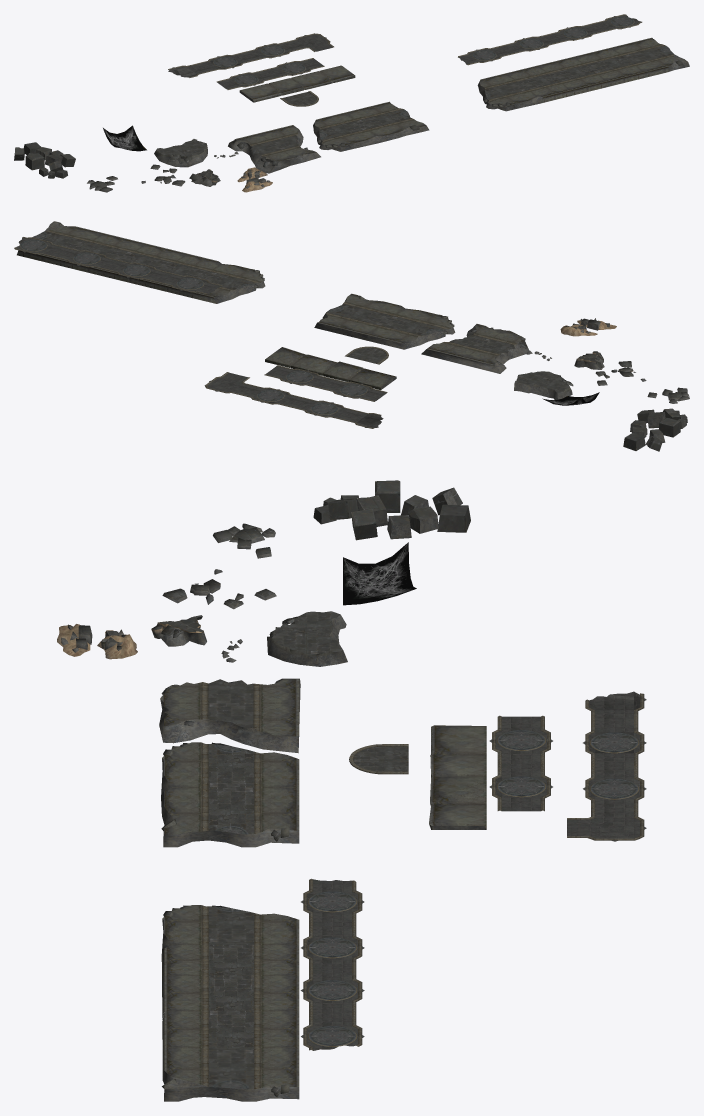
The model's file is f_103_floor_a.FBX.
3 renders of one model, top to bottom at view 1: azimuth 30°, elevation 25°; view 2: azimuth 150°, elevation 25°; view 3: azimuth 270°, elevation 25°, orthographic. The views are drawn at different scales.
Visible parts, largest first — view 1: f_103_floor_a12, f_103_floor_a05, f_103_floor_a06, f_103_floor_a17, f_103_floor_a00, f_103_floor_a01, f_103_floor_a14, f_103_floor_a03, f_103_floor_a07, f_103_floor_a15, f_103_floor_a16, f_103_floor_a04 (+3 smaller); view 2: f_103_floor_a12, f_103_floor_a05, f_103_floor_a17, f_103_floor_a06, f_103_floor_a00, f_103_floor_a01, f_103_floor_a14, f_103_floor_a03, f_103_floor_a07, f_103_floor_a16, f_103_floor_a04, f_103_floor_a10 (+2 smaller); view 3: f_103_floor_a12, f_103_floor_a05, f_103_floor_a17, f_103_floor_a06, f_103_floor_a01, f_103_floor_a00, f_103_floor_a14, f_103_floor_a03, f_103_floor_a07, f_103_floor_a15, f_103_floor_a16, f_103_floor_a04 (+4 smaller).
Part boxes in pixels (x1=…): f_103_floor_a12: x1=477, y1=37, x2=689, y2=111; f_103_floor_a05: x1=313, y1=101, x2=429, y2=151; f_103_floor_a06: x1=228, y1=125, x2=320, y2=173; f_103_floor_a17: x1=458, y1=14, x2=642, y2=65; f_103_floor_a00: x1=239, y1=65, x2=355, y2=102; f_103_floor_a01: x1=168, y1=41, x2=297, y2=77; f_103_floor_a14: x1=14, y1=142, x2=75, y2=178; f_103_floor_a03: x1=216, y1=58, x2=324, y2=89; f_103_floor_a07: x1=154, y1=139, x2=207, y2=167; f_103_floor_a15: x1=103, y1=125, x2=146, y2=151; f_103_floor_a16: x1=287, y1=33, x2=333, y2=51; f_103_floor_a04: x1=280, y1=91, x2=318, y2=106; f_103_floor_a12: x1=17, y1=221, x2=265, y2=303; f_103_floor_a05: x1=314, y1=293, x2=455, y2=349; f_103_floor_a17: x1=14, y1=237, x2=222, y2=294; f_103_floor_a06: x1=421, y1=324, x2=529, y2=373; f_103_floor_a00: x1=265, y1=347, x2=396, y2=389; f_103_floor_a01: x1=242, y1=385, x2=383, y2=428; f_103_floor_a14: x1=623, y1=408, x2=687, y2=451; f_103_floor_a03: x1=264, y1=365, x2=387, y2=401; f_103_floor_a07: x1=514, y1=371, x2=573, y2=399; f_103_floor_a16: x1=204, y1=372, x2=254, y2=395; f_103_floor_a04: x1=345, y1=346, x2=388, y2=364; f_103_floor_a10: x1=574, y1=351, x2=604, y2=369; f_103_floor_a12: x1=161, y1=905, x2=299, y2=1101; f_103_floor_a05: x1=161, y1=742, x2=299, y2=847; f_103_floor_a17: x1=300, y1=878, x2=364, y2=1050; f_103_floor_a06: x1=159, y1=678, x2=300, y2=753; f_103_floor_a01: x1=583, y1=691, x2=646, y2=807; f_103_floor_a00: x1=429, y1=725, x2=486, y2=829; f_103_floor_a14: x1=313, y1=480, x2=470, y2=540; f_103_floor_a03: x1=489, y1=715, x2=552, y2=811; f_103_floor_a07: x1=267, y1=611, x2=347, y2=666; f_103_floor_a15: x1=343, y1=542, x2=416, y2=605; f_103_floor_a16: x1=567, y1=807, x2=646, y2=841; f_103_floor_a04: x1=349, y1=744, x2=408, y2=774.
Bounding box in the file's own units: 13623 × 604 × 5741.
